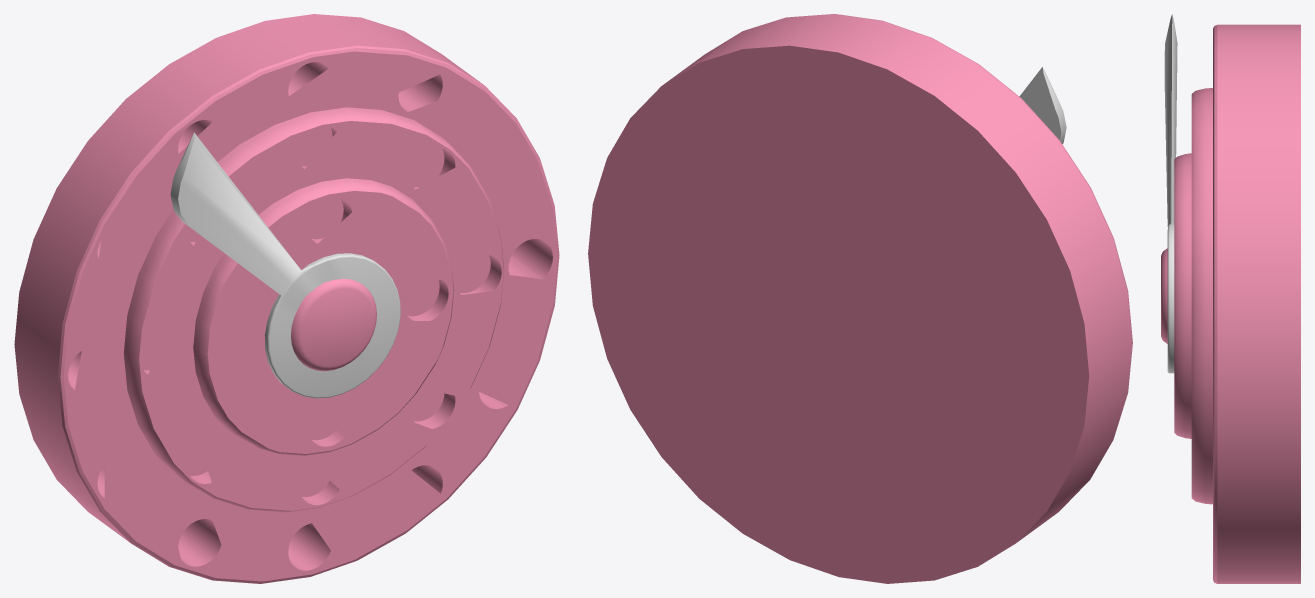
File: mehmet_semerci (1).fbx
The picture shows the model from 3 angles, left to right: view 1: azimuth 30°, elevation 25°; view 2: azimuth 150°, elevation 25°; view 3: azimuth 270°, elevation 25°; orthographic projection. The views are drawn at different scales.
Parts seen in each view (by area): view 1: çember4, çember3, çember2, bıçak, çember1; view 2: çember4, bıçak; view 3: çember4, çember3, çember2, bıçak, çember1.
Boxes of the visible parts, <box> form: çember4: <box>14,14,559,583</box>; çember3: <box>123,107,504,512</box>; çember2: <box>193,178,454,455</box>; bıçak: <box>170,132,400,398</box>; çember1: <box>291,278,376,371</box>; çember4: <box>588,14,1132,583</box>; bıçak: <box>1019,67,1066,143</box>; çember4: <box>1213,24,1300,583</box>; çember3: <box>1191,88,1212,504</box>; çember2: <box>1174,153,1191,438</box>; bıçak: <box>1164,14,1177,373</box>; çember1: <box>1161,248,1167,343</box>.
Bounding box in the file's own units: 58.74 × 58.74 × 14.66.
